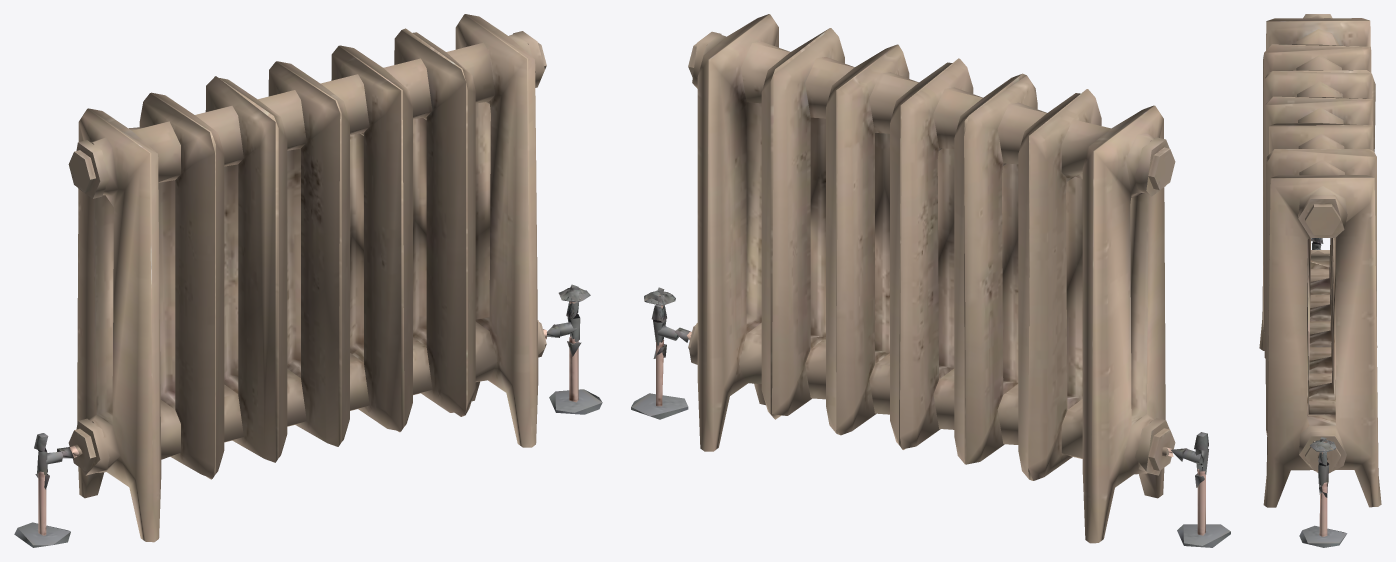
The picture shows the model from 3 angles, left to right: view 1: azimuth 30°, elevation 25°; view 2: azimuth 150°, elevation 25°; view 3: azimuth 270°, elevation 25°; orthographic projection. The views are drawn at different scales.
Visible parts, largest first — view 1: Bistro_Research_Interior_Paris_radiator_mesh_03_3230; view 2: Bistro_Research_Interior_Paris_radiator_mesh_03_3230; view 3: Bistro_Research_Interior_Paris_radiator_mesh_03_3230.
Part boxes in pixels (x1=…): Bistro_Research_Interior_Paris_radiator_mesh_03_3230: x1=14, y1=14, x2=602, y2=547; Bistro_Research_Interior_Paris_radiator_mesh_03_3230: x1=631, y1=14, x2=1230, y2=547; Bistro_Research_Interior_Paris_radiator_mesh_03_3230: x1=1259, y1=14, x2=1381, y2=547.
Bounding box in the file's own units: 0.998 × 0.6418 × 0.2153.
1 material, 1 textured.
